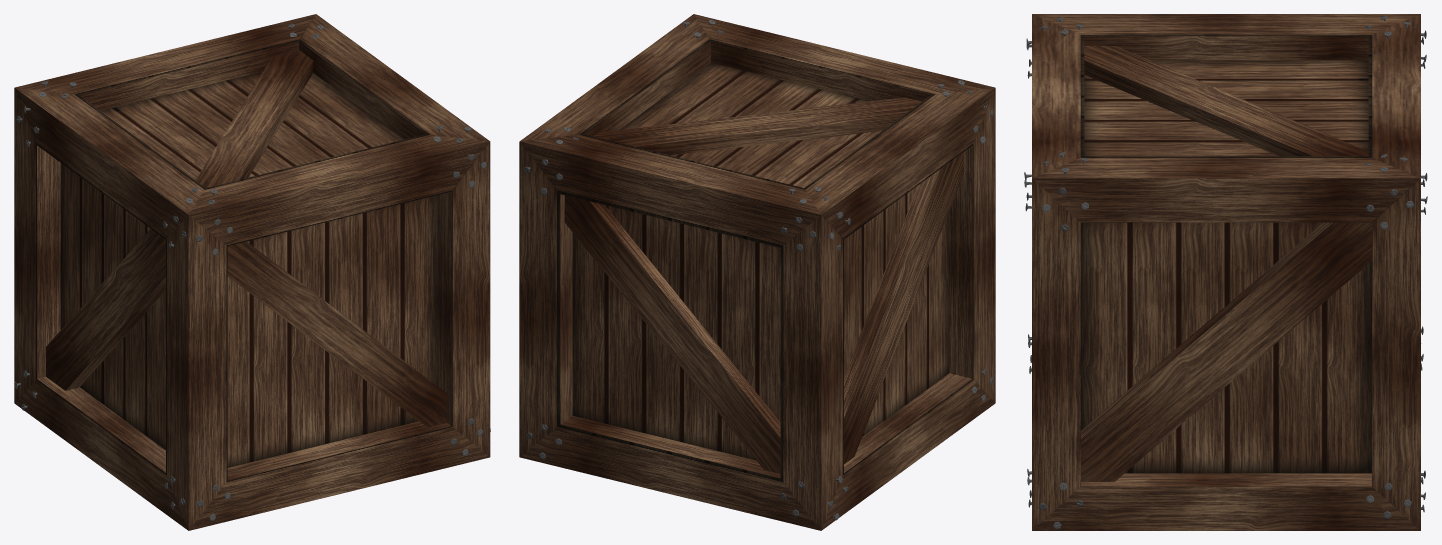
Rendered from Crate.fbx.
3 renders of one model, left to right at view 1: azimuth 30°, elevation 25°; view 2: azimuth 150°, elevation 25°; view 3: azimuth 270°, elevation 25°, orthographic. The views are drawn at different scales.
Visible parts, largest first — view 1: Cube, Screws; view 2: Cube, Screws; view 3: Cube, Screws.
Boxes of the visible parts, x1,y1,x2,y2 form: Cube: (14, 14, 490, 530); Screws: (14, 24, 490, 520); Cube: (519, 14, 995, 530); Screws: (523, 20, 993, 520); Cube: (1032, 14, 1420, 530); Screws: (1024, 15, 1427, 529).
Bounding box in the file's own units: 208 × 203 × 207.
